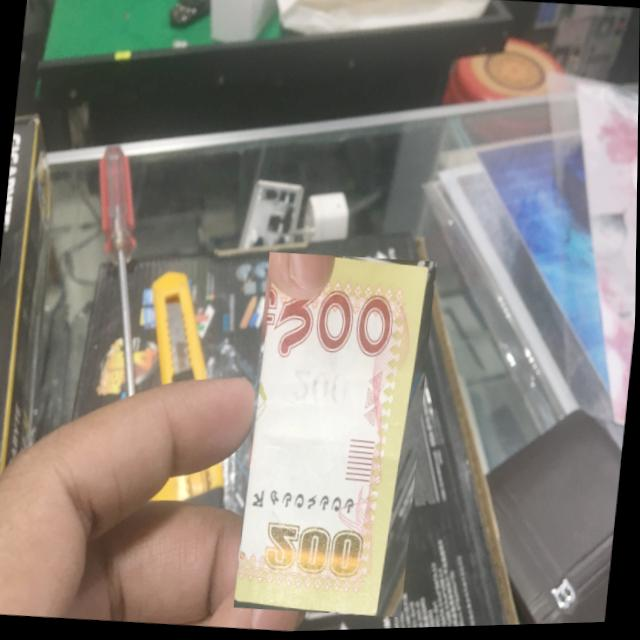Taka: (235, 249, 437, 624)
